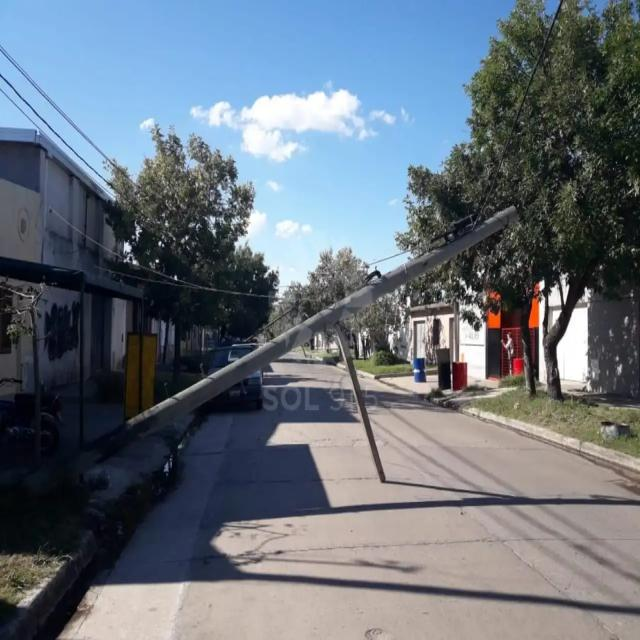Inclined Pole: (124, 203, 523, 487)
